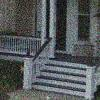stairs: (32, 57, 94, 99)
